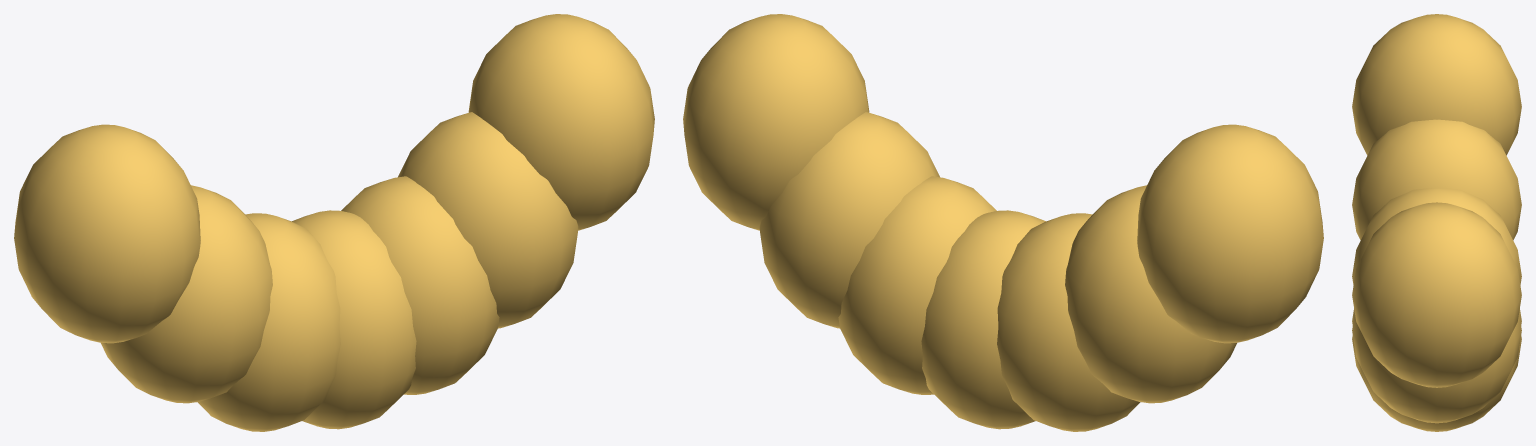
Rendered from word-banana.glb.
3 views of the same model, side by side, from view 1: azimuth 30°, elevation 25°; view 2: azimuth 150°, elevation 25°; view 3: azimuth 270°, elevation 25° (orthographic). The views are drawn at different scales.
Parts seen in each view (by area): view 1: curved banana, curved banana.006, curved banana.005, curved banana.001, curved banana.004, curved banana.002, curved banana.003; view 2: curved banana, curved banana.006, curved banana.005, curved banana.001, curved banana.004, curved banana.002, curved banana.003; view 3: curved banana.006, curved banana, curved banana.001, curved banana.005, curved banana.002, curved banana.004.
Part boxes in pixels (x1,y1,x2,y2): curved banana: (14, 124, 200, 343); curved banana.006: (468, 14, 654, 230); curved banana.005: (398, 112, 578, 328); curved banana.001: (101, 185, 272, 403); curved banana.004: (341, 176, 499, 394); curved banana.002: (197, 213, 340, 431); curved banana.003: (292, 210, 416, 429); curved banana: (1137, 124, 1323, 343); curved banana.006: (683, 14, 869, 230); curved banana.005: (759, 112, 939, 328); curved banana.001: (1065, 185, 1236, 403); curved banana.004: (838, 176, 996, 394); curved banana.002: (997, 213, 1140, 431); curved banana.003: (921, 210, 1045, 429); curved banana.006: (1352, 202, 1521, 387); curved banana: (1352, 14, 1521, 155); curved banana.001: (1352, 119, 1521, 240); curved banana.005: (1352, 313, 1521, 423); curved banana.002: (1352, 188, 1521, 285); curved banana.004: (1352, 335, 1521, 431).
Size of the model in its own units: 1.14 by 0.61 by 0.32.
